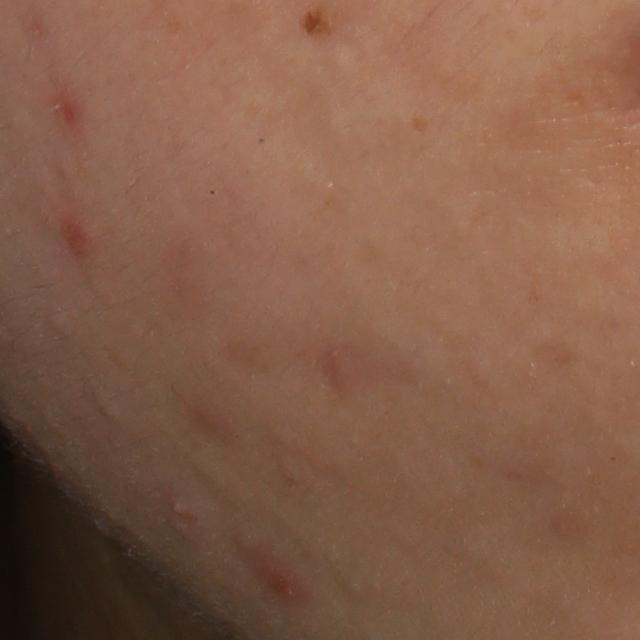comedo: (47, 313, 81, 337)
nevus: (285, 1, 352, 42)
papule: (249, 559, 313, 602), (62, 213, 89, 256), (167, 498, 187, 519)
